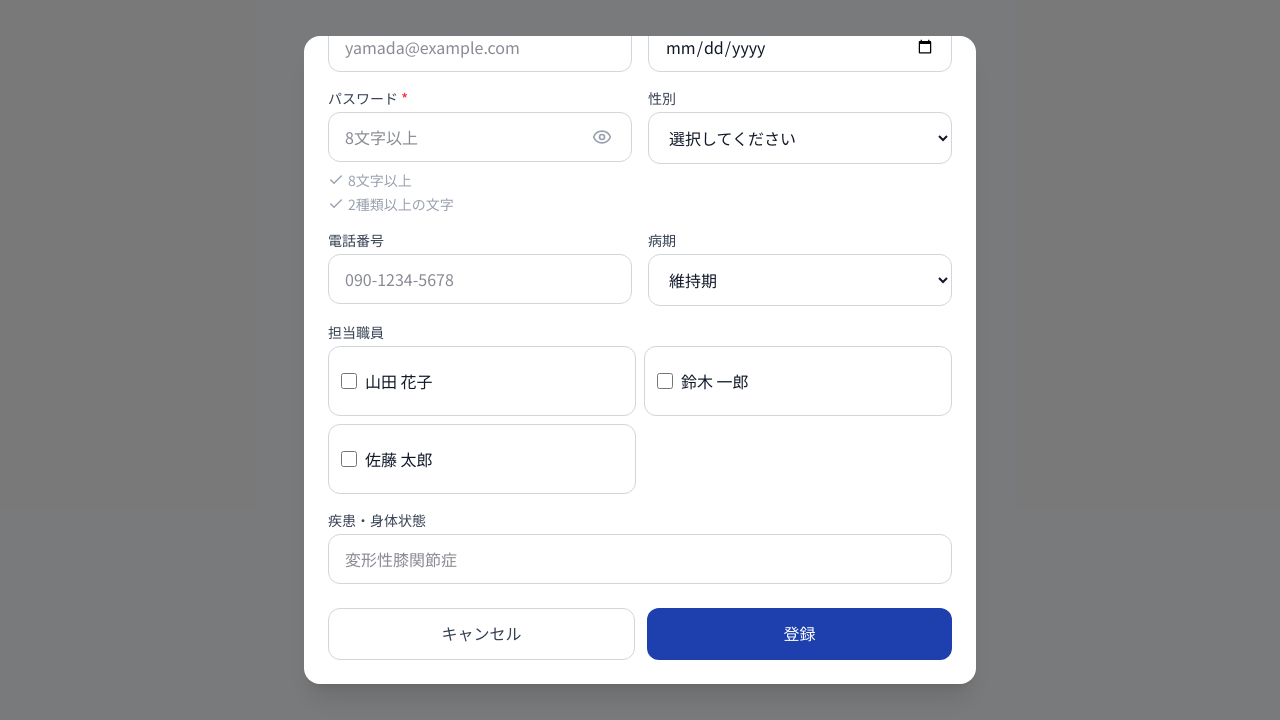
Test: PatientCreateDialog › form validation › should show error when submitting with empty required fields
(page scrolled)
Click the button "登録" at x=800, y=634, box [647,608,952,660]
(page scrolled)
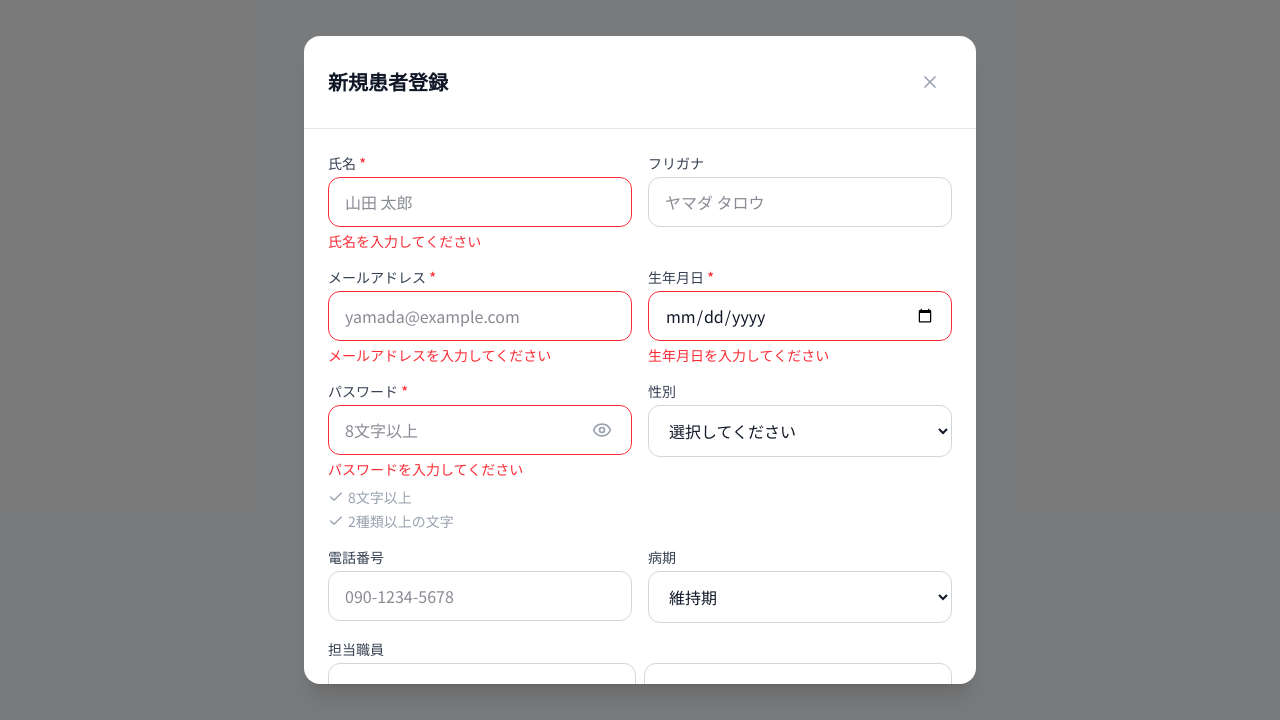
Now the text "氏名を入力してください" is shown, box [328,231,481,251]
